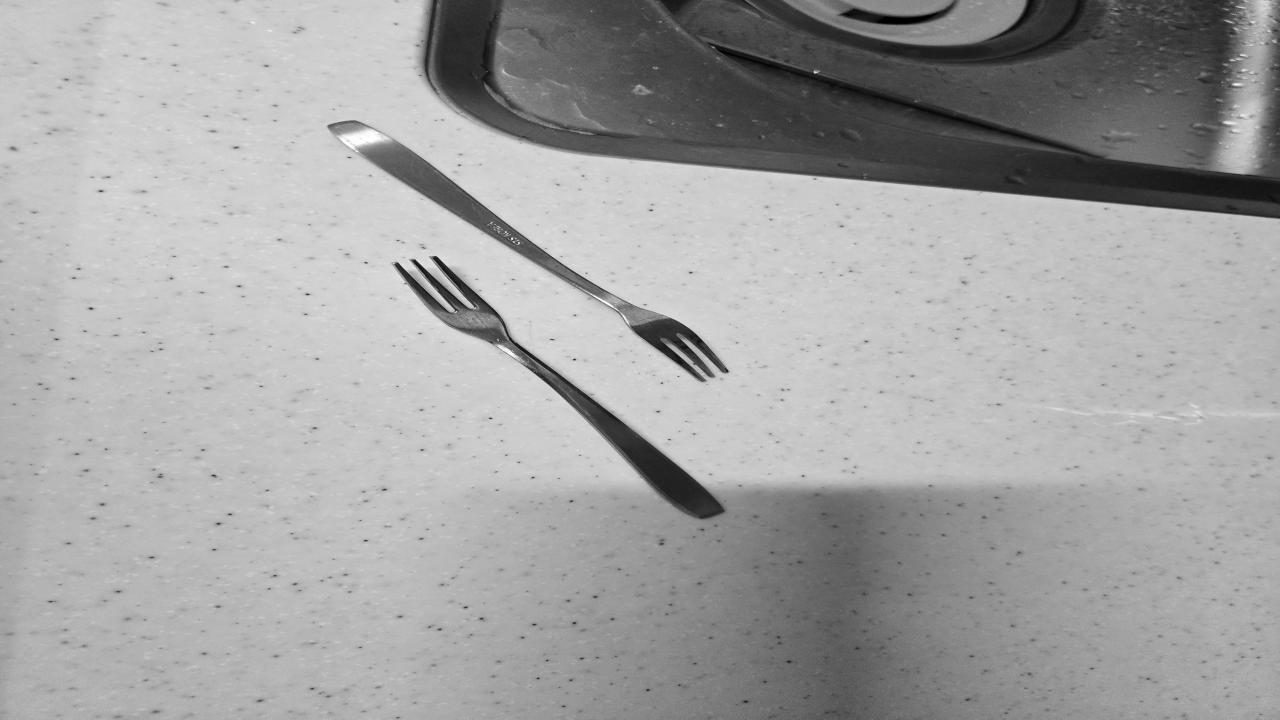fork: (328, 120, 728, 380), (389, 256, 728, 516)
